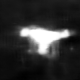plane: (18, 24, 75, 61)
